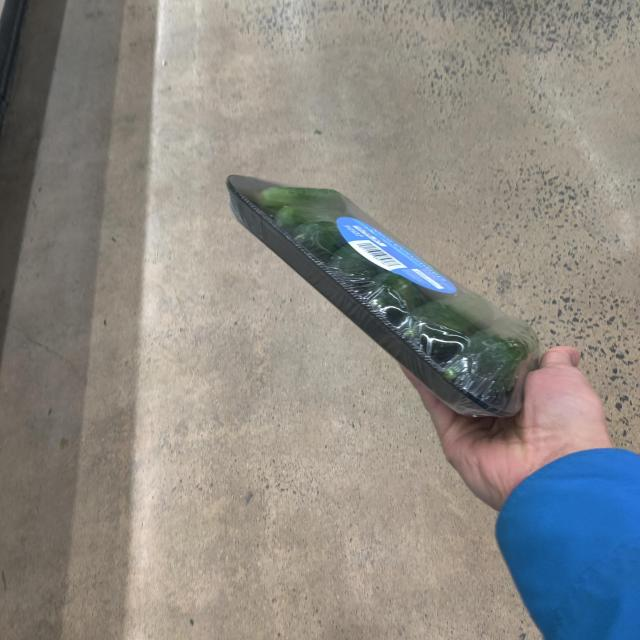Cucumber: (210, 147, 576, 433)
